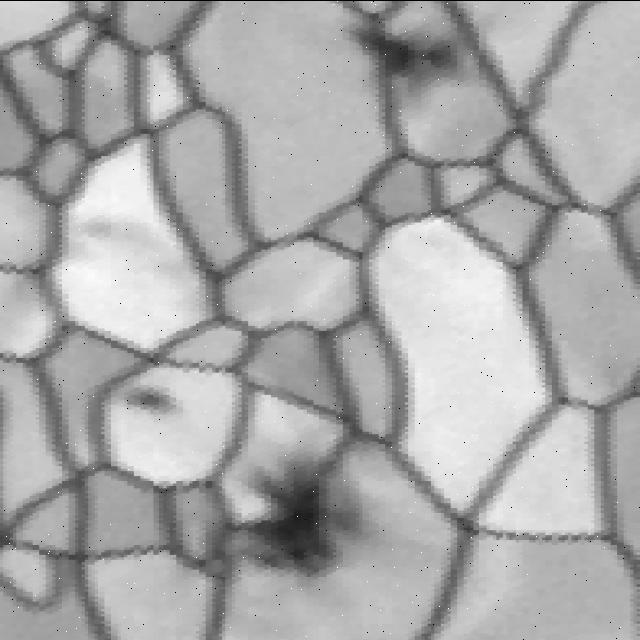good_void: (206, 443, 378, 593), (344, 5, 481, 106), (92, 210, 188, 281), (121, 377, 190, 415)
